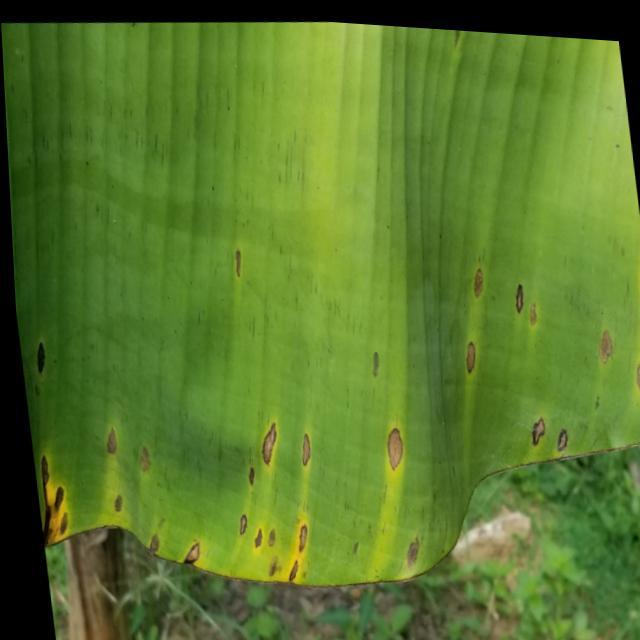Early_rust: (18, 142, 640, 583)
